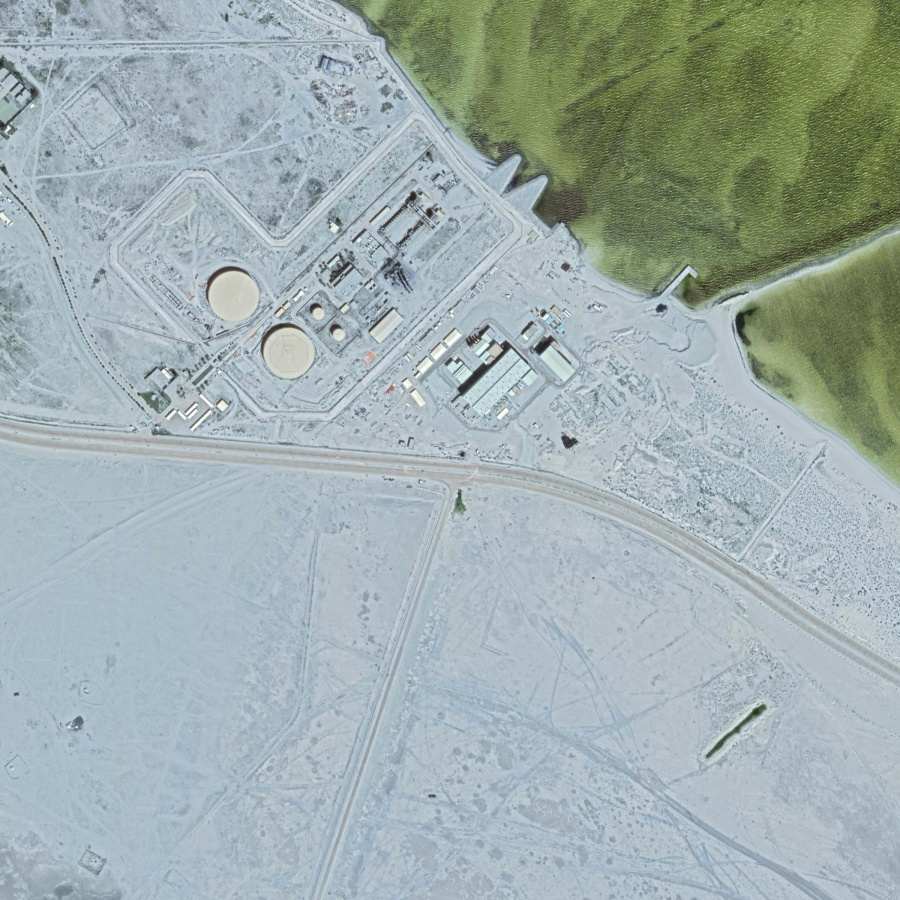PowerPlant: (185, 161, 590, 448)
